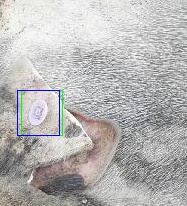text: (21, 90, 62, 135)
